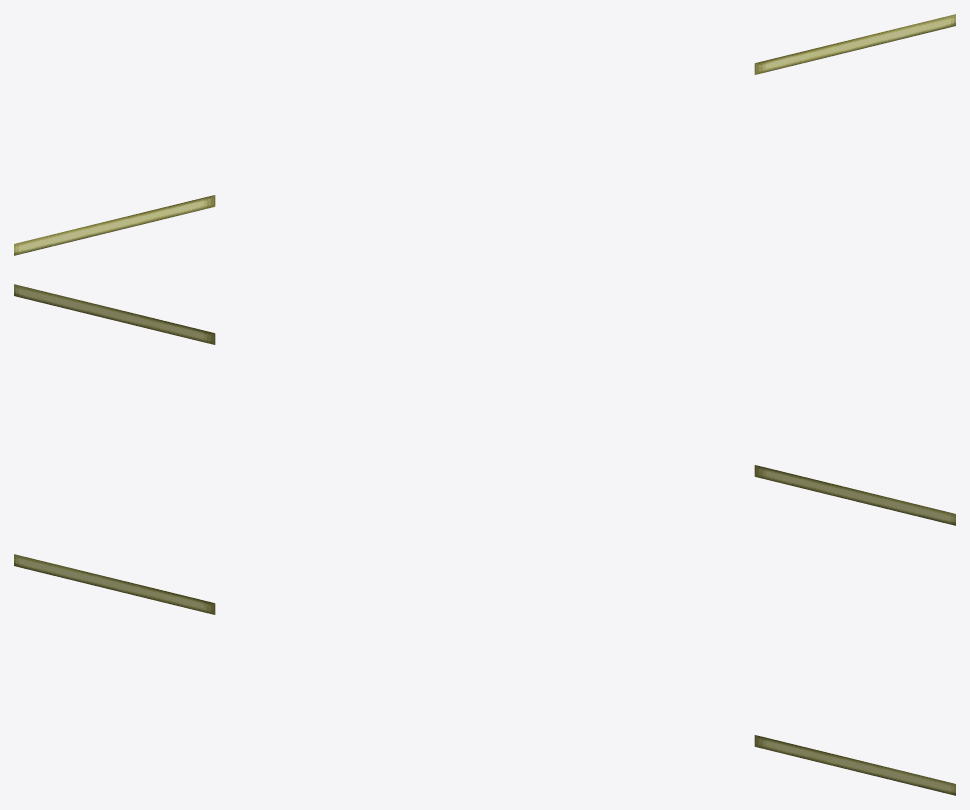
File: ywing_booster_s01_on_l1.fbx
3 renders of one model, top to bottom at view 1: azimuth 30°, elevation 25°; view 2: azimuth 150°, elevation 25°; view 3: azimuth 330°, elevation 25°, orthographic.
Parts seen in each view (by area): view 1: mesh_node; view 2: mesh_node; view 3: mesh_node.
Part boxes in pixels (bbox=[...]): mesh_node: bbox=[14, 14, 955, 255]; mesh_node: bbox=[14, 284, 955, 525]; mesh_node: bbox=[14, 554, 955, 795].
Bounding box in the file's own units: 6.62 × 0.08 × 0.
Materials: 1 (1 with a texture image).
